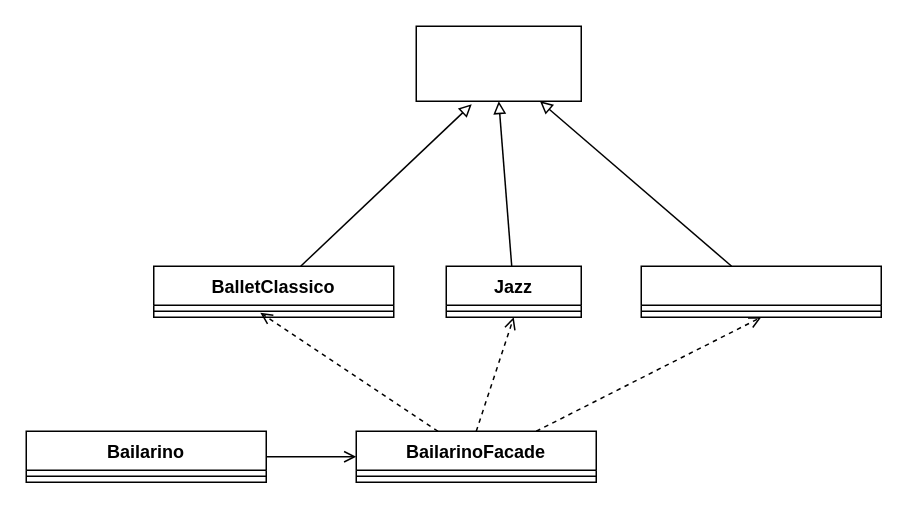
Some shapes in this 908 by 509 pixel diagram are drawn without their labels. Each missing label, with the centre of its shape:
Sapateado: point (760, 291)
«abstract» Turma: point (498, 63)
